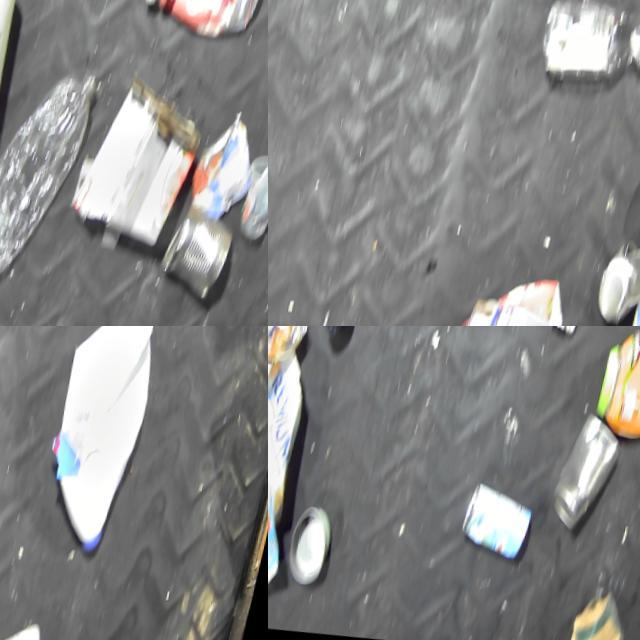can: (163, 199, 252, 308), (464, 481, 552, 569), (290, 504, 349, 593), (598, 236, 640, 326)
milk_jug: (35, 326, 173, 563)
non_white_jug: (596, 326, 640, 451)
plastic_bottle: (0, 59, 113, 290), (533, 0, 640, 107)
